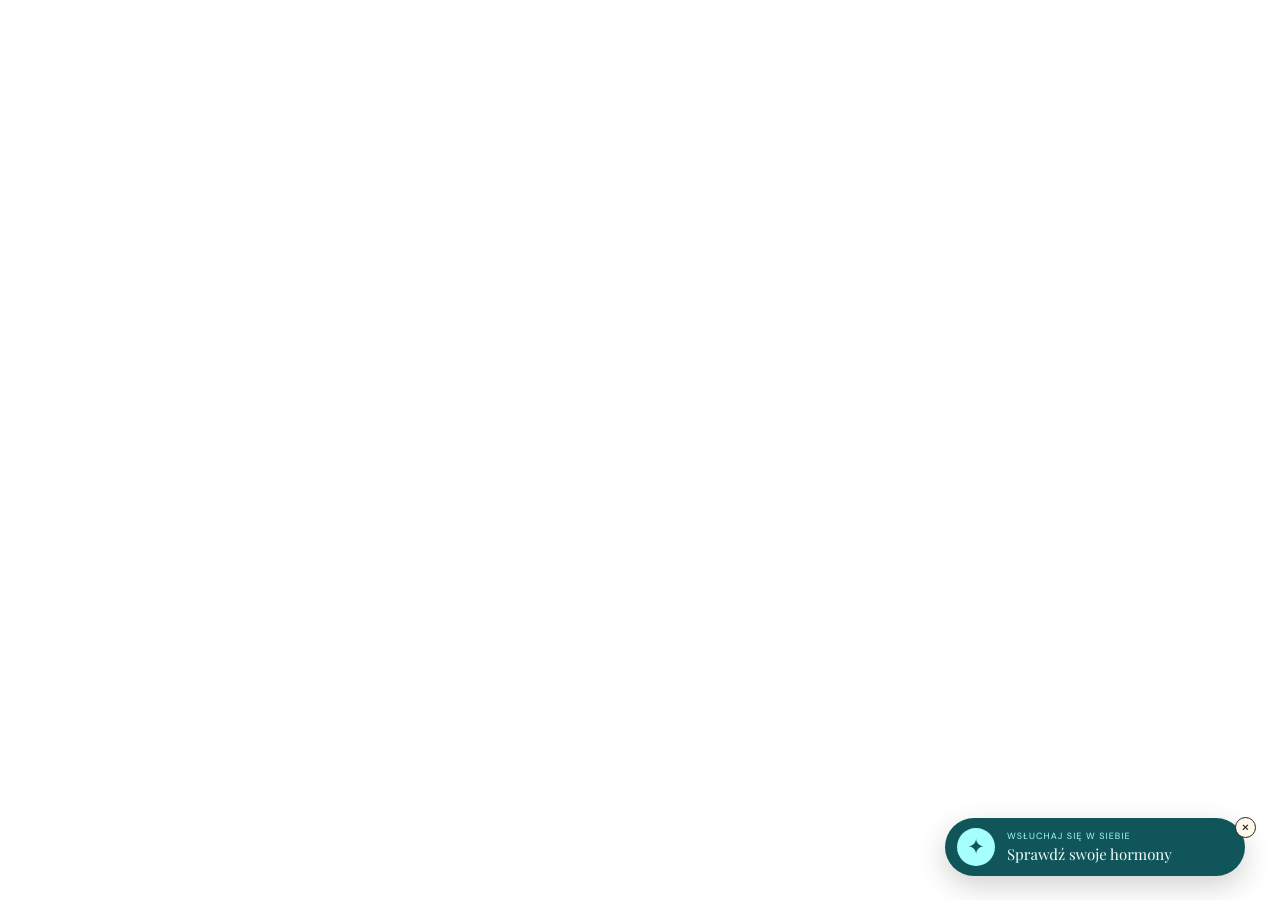
Test: HormoneTeaser › shows the description for ZŁOŚNICA
Click the button "Sprawdź swoje hormony" at [1095, 847], box [945, 818, 1245, 876]
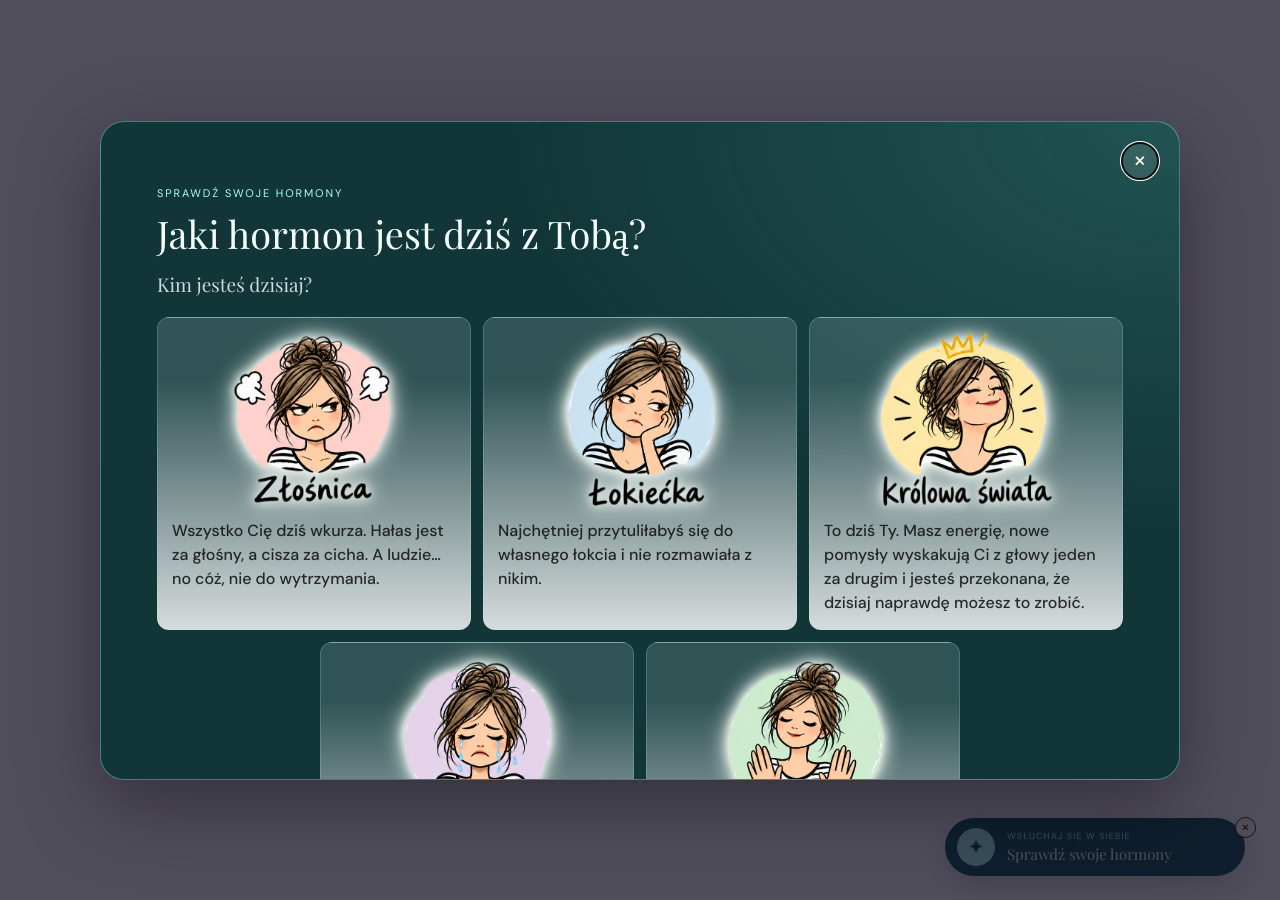
Click the button named "ZŁOŚNICA" at [314, 473], box [157, 316, 471, 630]
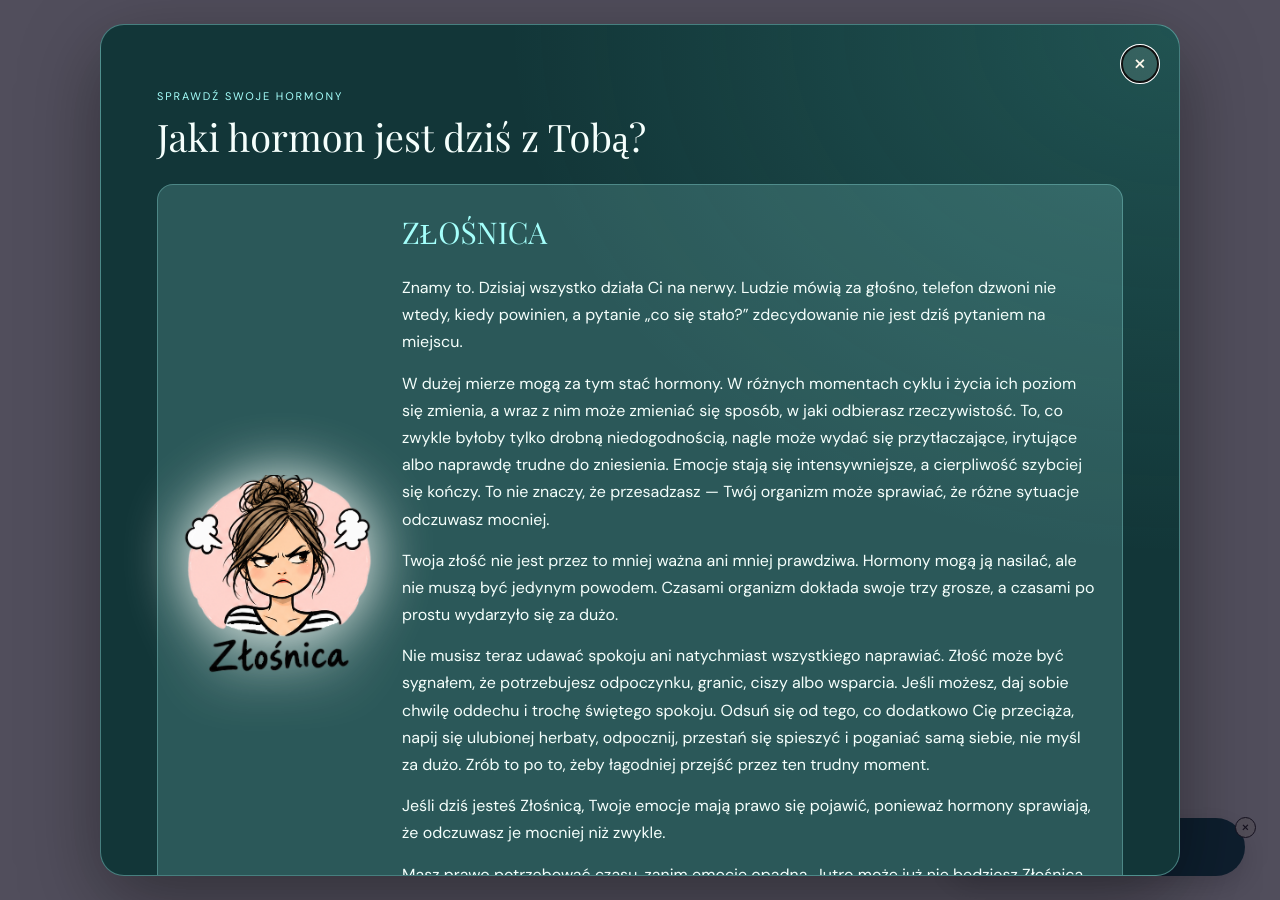
Expected: the heading "ZŁOŚNICA" is shown, [402, 212, 547, 252]
Expected: the text "Kim jesteś dzisiaj?" is gone
Expected: the text "W dużej mierze mogą za tym stać hormony. W różnych momentach cyklu i życia ich poziom się zmienia, a wraz z nim może zmi" is shown, [402, 373, 1082, 530]
